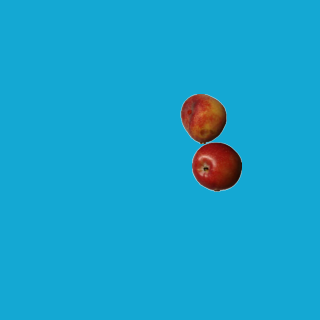Apple Braeburn: (191, 141, 241, 191)
Peach: (178, 93, 228, 143)
